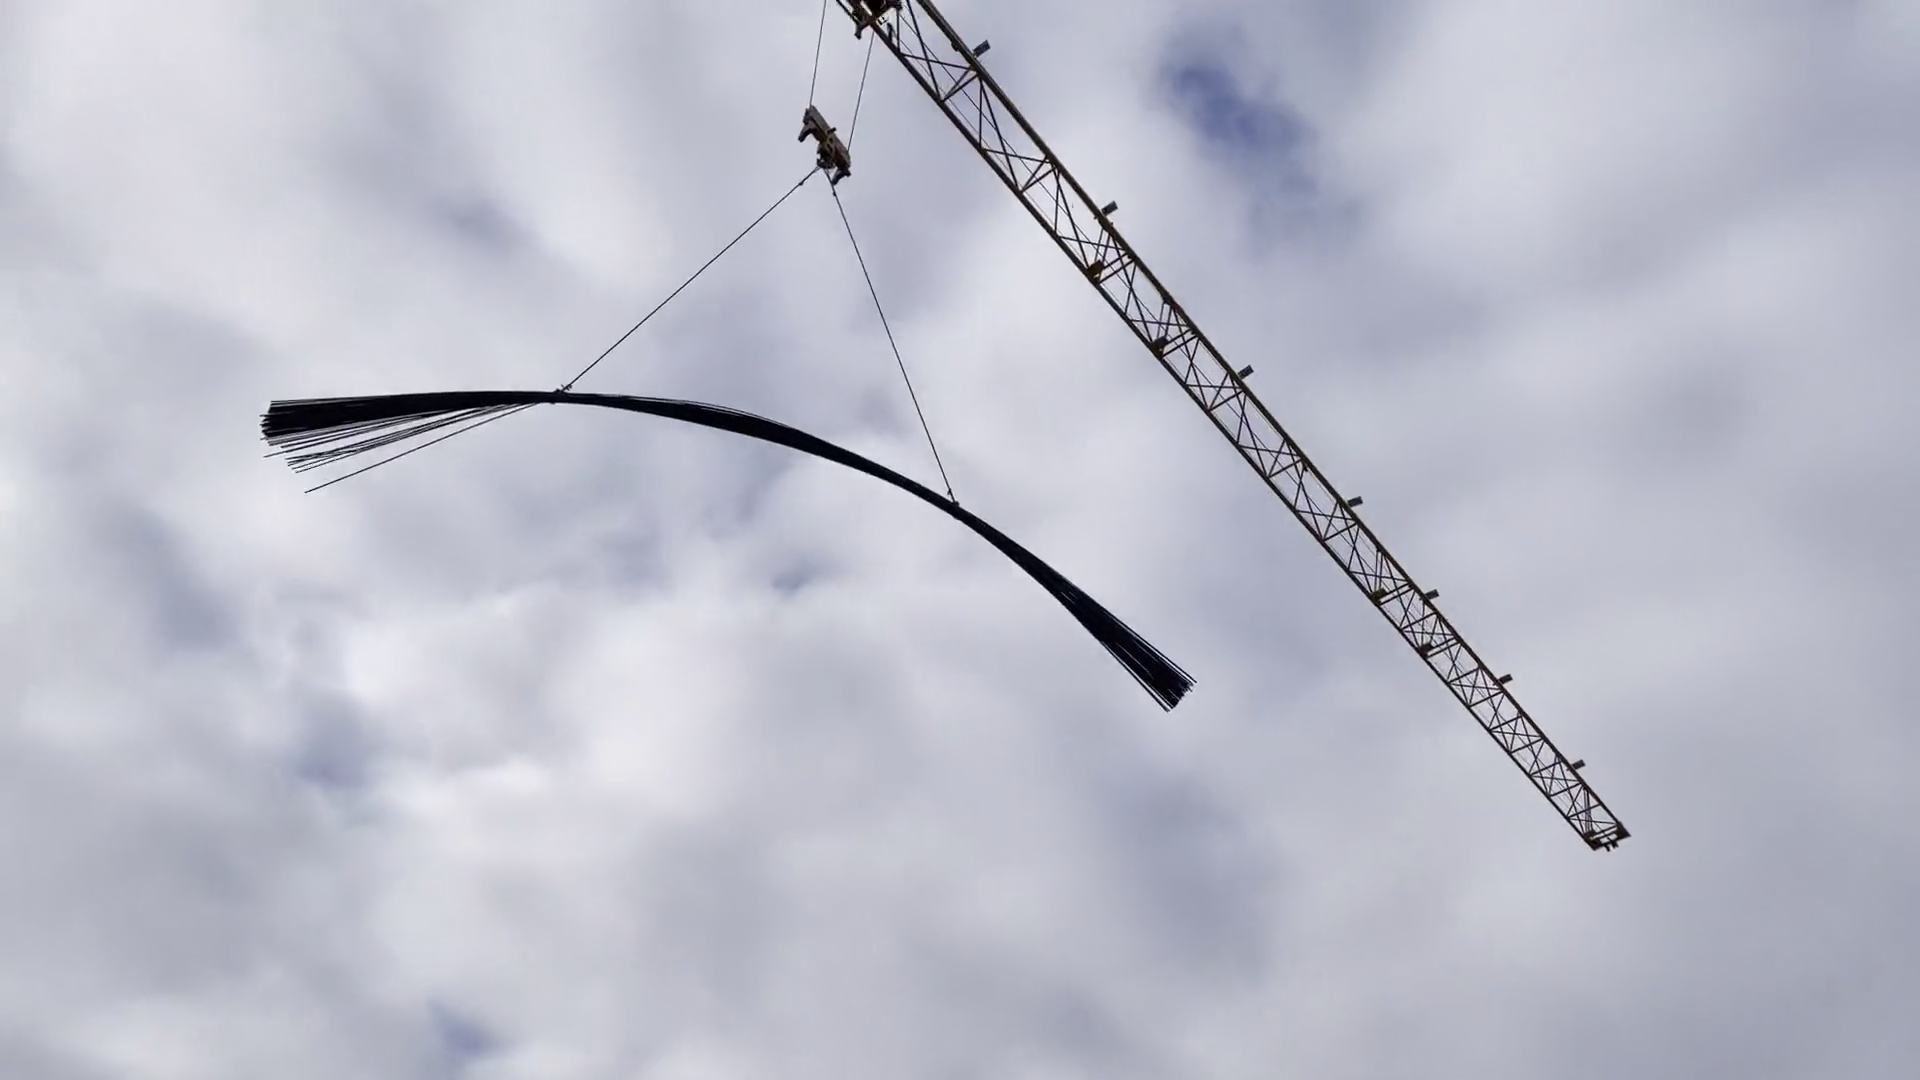hook: (794, 100, 855, 179)
rebar: (255, 359, 1193, 760)
